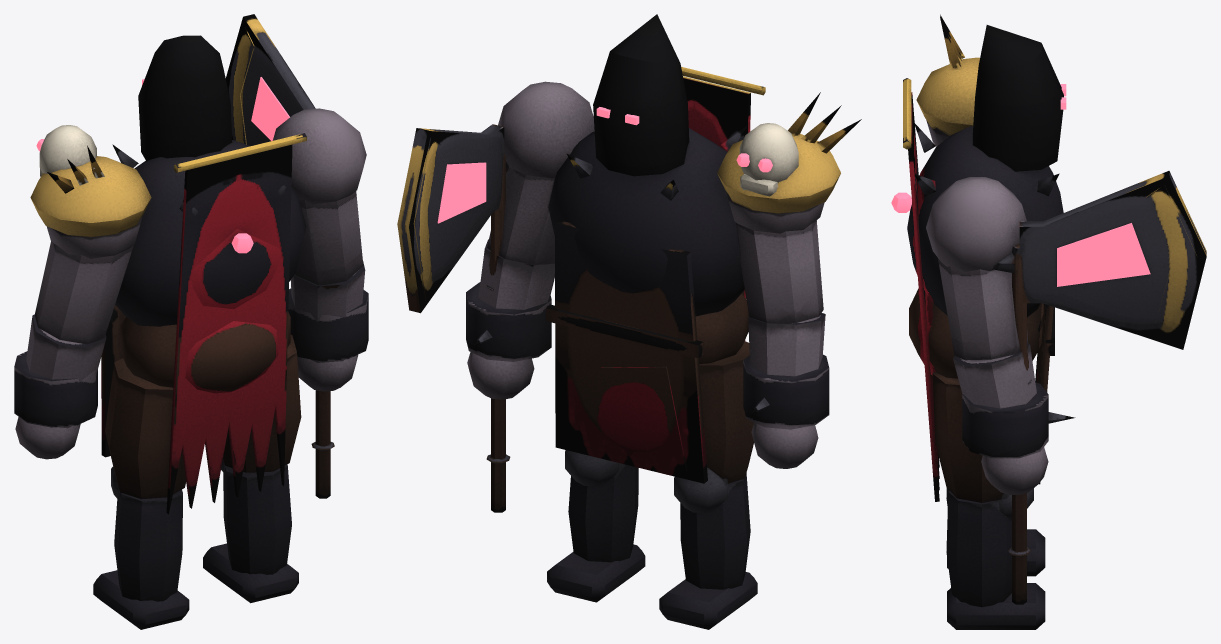
File: alpha_throne_executioner.fbx
The picture shows the model from 3 angles, left to right: view 1: azimuth 30°, elevation 25°; view 2: azimuth 150°, elevation 25°; view 3: azimuth 270°, elevation 25°; orthographic projection. The views are drawn at different scales.
Parts seen in each view (by area): view 1: Body, ForearmR, ArmR, Head, KneeL, Trophy_SkullPauldron, ForearmL, KneeR, ArmL, LegL, LegR, ForearmR_Glow_Crimson; view 2: Body, ForearmR, Head, ArmR, ForearmL, KneeL, KneeR, ArmL, Trophy_SkullPauldron, LegL, ForearmR_Glow_Crimson; view 3: ForearmR, Body, ArmR, Head, KneeR, LegR, ForearmR_Glow_Crimson, Trophy_SkullPauldron, KneeL.
Boxes of the visible parts, x1,y1,x2,y2 form: Body: (101, 133, 306, 514); ForearmR: (225, 14, 368, 498); ArmR: (272, 108, 366, 285); Head: (138, 35, 232, 161); KneeL: (93, 466, 189, 629); Trophy_SkullPauldron: (30, 125, 151, 237); ForearmL: (14, 314, 106, 459); KneeR: (203, 459, 298, 603); ArmL: (34, 216, 142, 344); LegL: (105, 358, 185, 499); LegR: (223, 335, 301, 472); ForearmR_Glow_Crimson: (251, 77, 289, 140); Body: (546, 67, 765, 483); ForearmR: (397, 124, 554, 512); Head: (593, 14, 689, 176); ArmR: (487, 81, 594, 264); ForearmL: (743, 313, 829, 468); KneeL: (659, 467, 757, 629); KneeR: (547, 450, 645, 602); ArmL: (726, 192, 824, 323); Trophy_SkullPauldron: (717, 92, 861, 213); LegL: (699, 341, 753, 483); ForearmR_Glow_Crimson: (437, 162, 486, 223); ForearmR: (953, 171, 1206, 604); Body: (903, 78, 1063, 501); ArmR: (926, 177, 1028, 360); Head: (973, 25, 1063, 171); KneeR: (946, 488, 1045, 629); LegR: (932, 372, 1003, 502); ForearmR_Glow_Crimson: (1057, 223, 1150, 286); Trophy_SkullPauldron: (916, 14, 979, 135); KneeL: (946, 488, 1045, 576).
Size of the model in its own units: 561 by 871 by 438.
2 materials, 1 textured.
